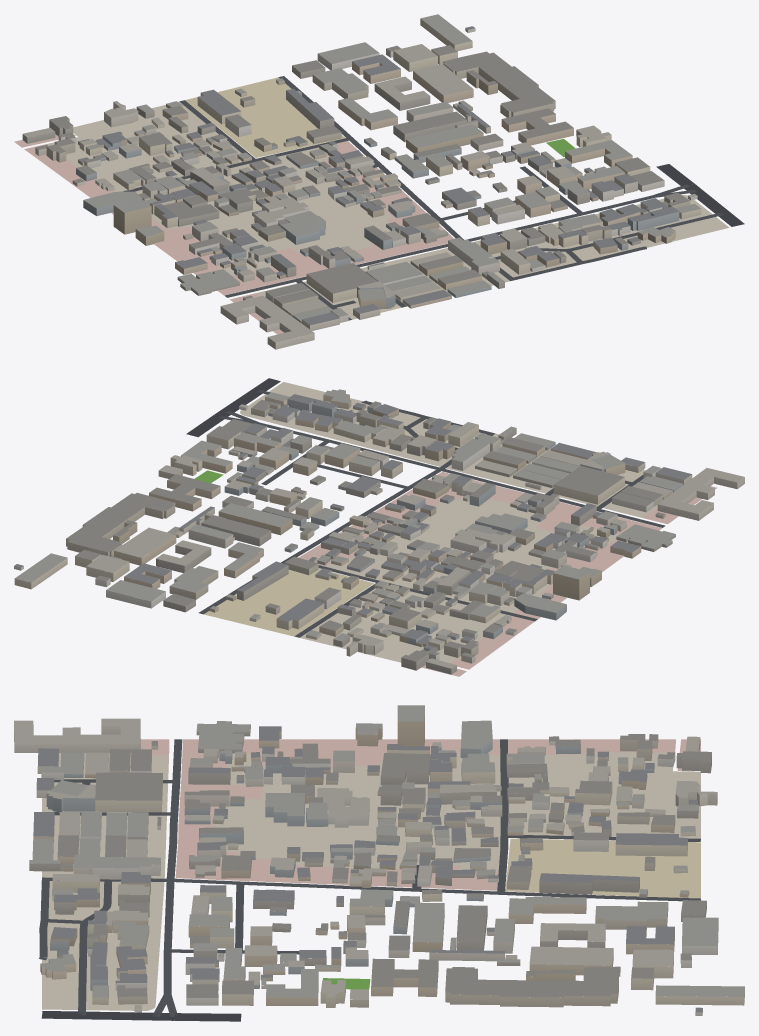
The picture shows the model from 3 angles, top to bottom: view 1: azimuth 30°, elevation 25°; view 2: azimuth 150°, elevation 25°; view 3: azimuth 270°, elevation 25°; orthographic projection. The views are drawn at different scales.
Visible parts, largest first — view 1: buildings_roofs, buildings_walls, landuse, roads; view 2: buildings_roofs, buildings_walls, landuse, roads; view 3: buildings_roofs, buildings_walls, landuse, roads.
Part boxes in pixels (x1,y1,x2,y2): buildings_roofs: (23, 14, 700, 342); buildings_walls: (22, 18, 701, 349); landuse: (14, 77, 729, 334); roads: (123, 76, 744, 320); buildings_roofs: (14, 389, 744, 668); buildings_walls: (14, 391, 744, 674); landuse: (194, 382, 717, 676); roads: (186, 378, 665, 637); buildings_roofs: (14, 705, 744, 1012); buildings_walls: (14, 716, 744, 1015); landuse: (42, 739, 700, 1010); roads: (39, 739, 700, 1021).
Size of the model in its own units: 533 by 22.42 by 555.
